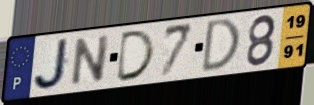7: (161, 20, 195, 80)
8: (245, 12, 277, 68)
D: (199, 16, 243, 75), (114, 27, 158, 84)
J: (31, 36, 71, 92)
N: (68, 33, 113, 88)
